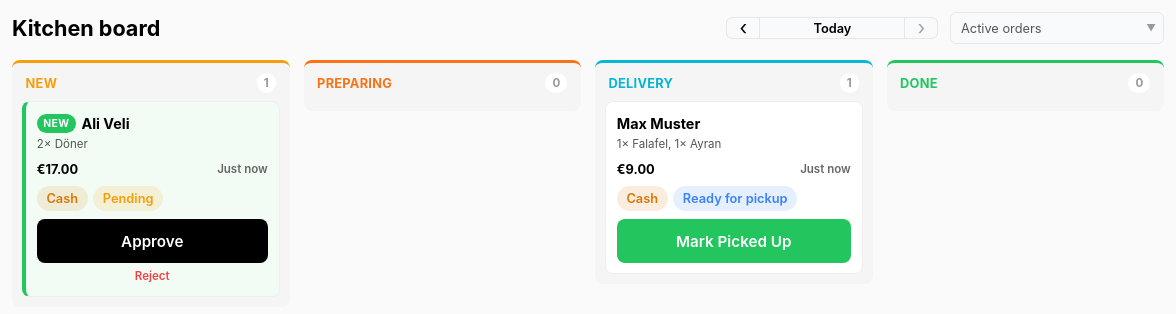
Test: OrdersPage › previous/next day buttons step the board day without relying on the date picker
Expected: the text "Today" is shown, [814,19,851,38]
Expected: the button named "Next day" is disabled, [905,18,937,38]
Click the button named "Previous day" at (743, 28), box [727,18,759,38]
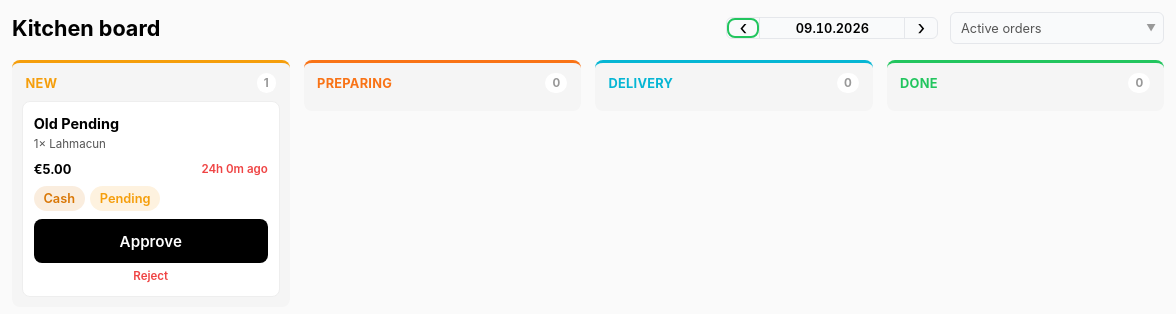
Result: the text "Today" is gone
Result: the text "Old Pending" is shown at [34,113,119,134]
Result: the button named "Next day" is enabled
Click the button named "Next day" at (921, 28), box [905,18,937,38]
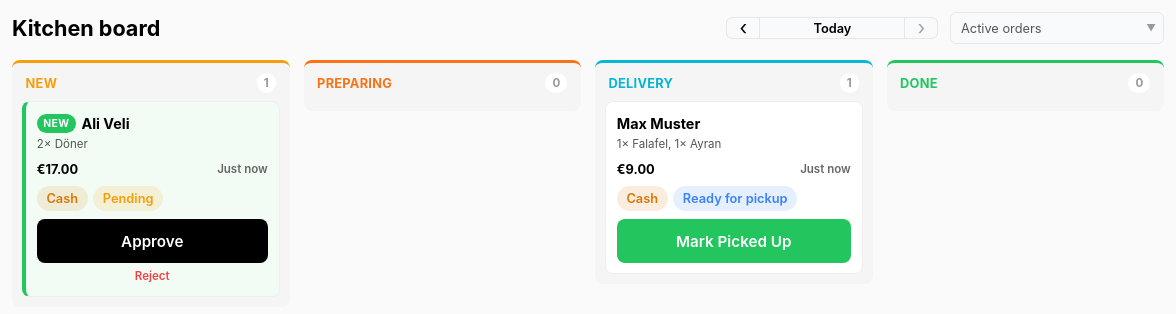
Result: the text "Today" is shown at [814,19,851,38]
Result: the button named "Next day" is disabled at [905,18,937,38]
